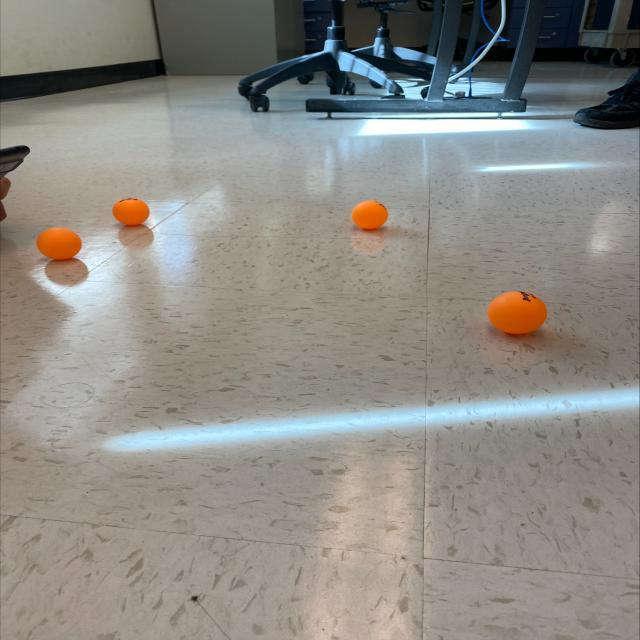ping-pong-ball: (486, 289, 550, 337), (34, 226, 85, 261), (349, 199, 392, 230), (110, 196, 153, 226)
